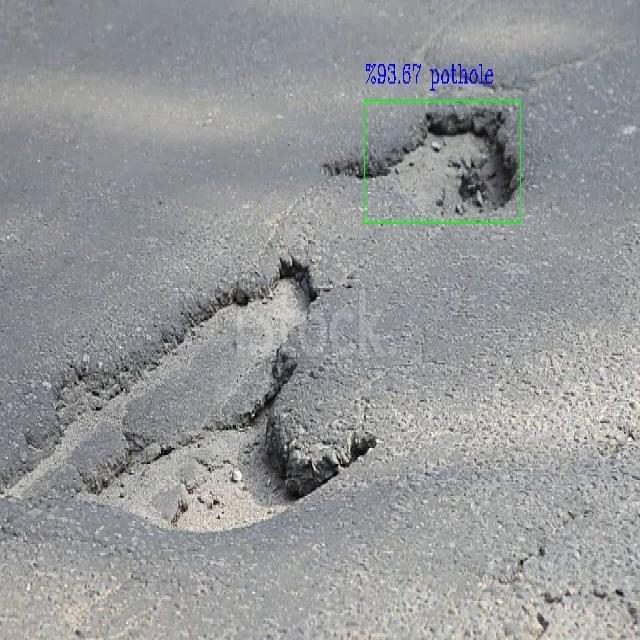pothole: (3, 256, 380, 536), (365, 100, 522, 220)
